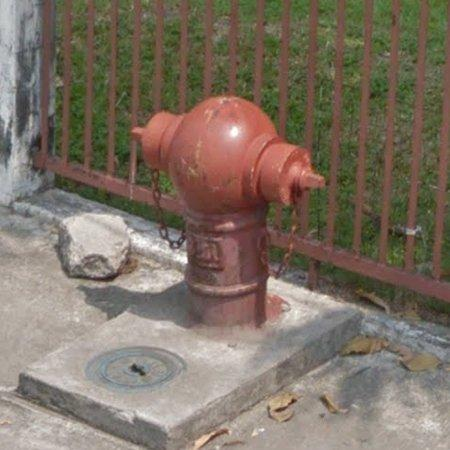a fire hydrant: (133, 97, 325, 327)
